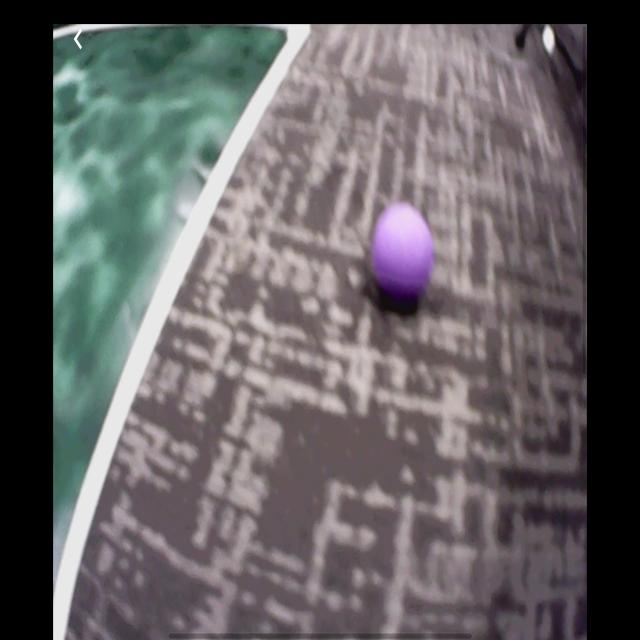ball: (373, 204, 433, 303)
